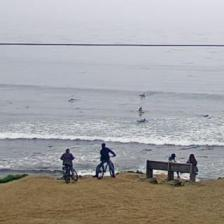surfer: (139, 93, 146, 98), (137, 119, 148, 122), (139, 106, 143, 111), (204, 114, 209, 117), (68, 98, 75, 100)
